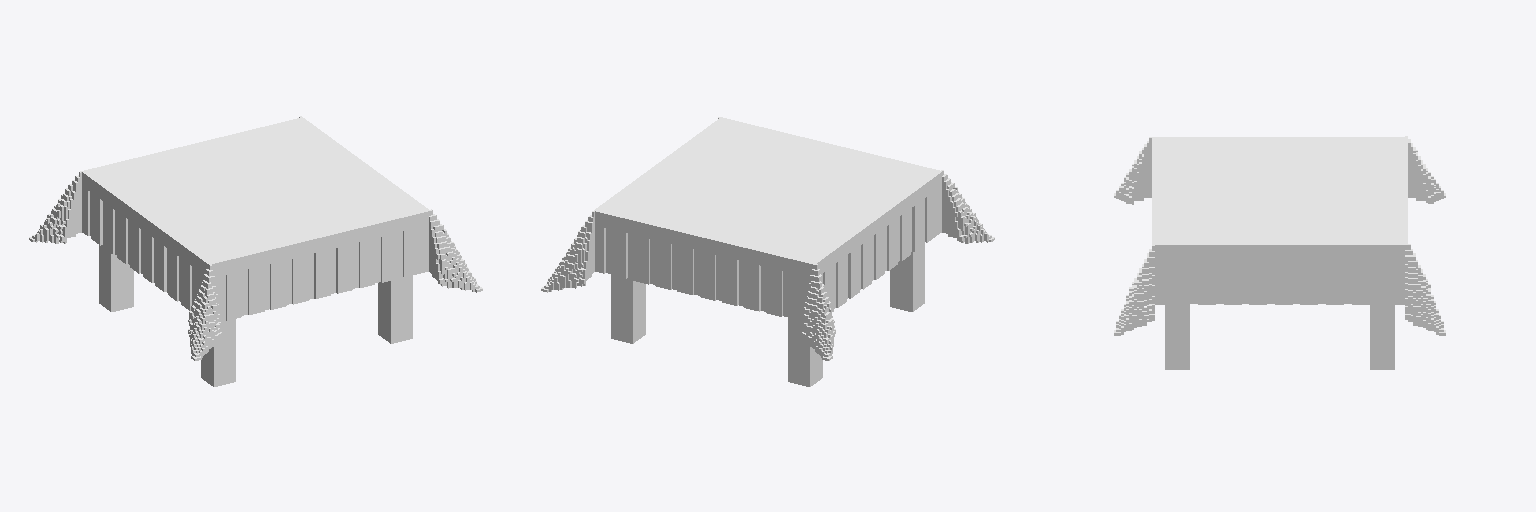
The model's file is Title-3.obj.
The picture shows the model from 3 angles: view 1: azimuth 30°, elevation 25°; view 2: azimuth 150°, elevation 25°; view 3: azimuth 270°, elevation 25°; orthographic projection.
Parts seen in each view (by area): view 1: object 1; view 2: object 1; view 3: object 1.
Boxes of the visible parts, x1=… form: object 1: x1=29, y1=116, x2=482, y2=386; object 1: x1=541, y1=117, x2=994, y2=386; object 1: x1=1114, y1=136, x2=1445, y2=369.
Bounding box in the file's own units: 13 × 5.6 × 13.